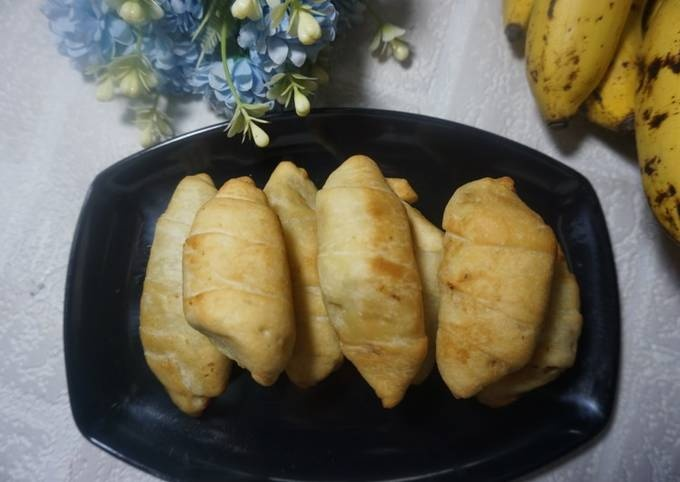pisang_molen: (314, 154, 429, 408), (436, 178, 559, 401), (182, 174, 296, 385)
